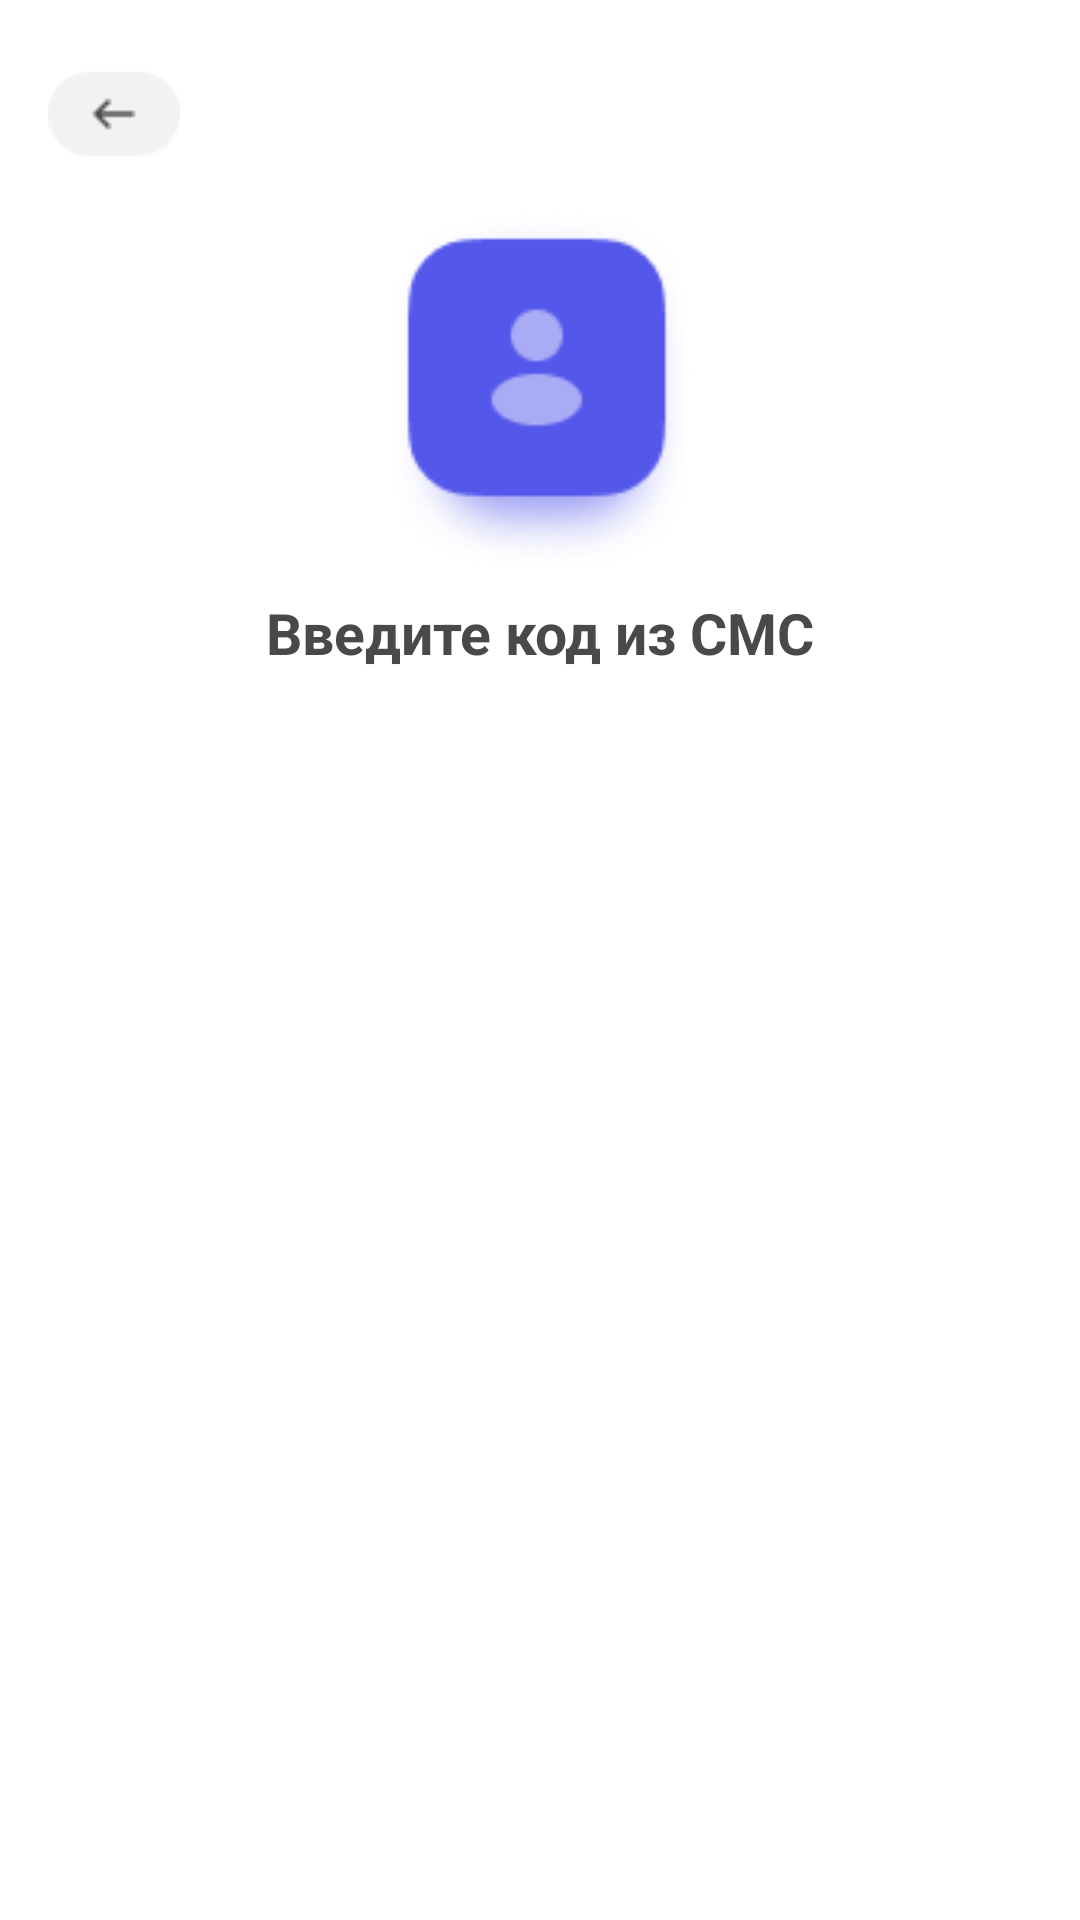

Icon bounding boxes for this 1080px×1920px phone screenshot, format {"left": x1, "top": y1, "right": x2, "bottom": y2}:
backbtn: {"left": 48, "top": 72, "right": 180, "bottom": 156}
profileicon: {"left": 407, "top": 238, "right": 667, "bottom": 534}
